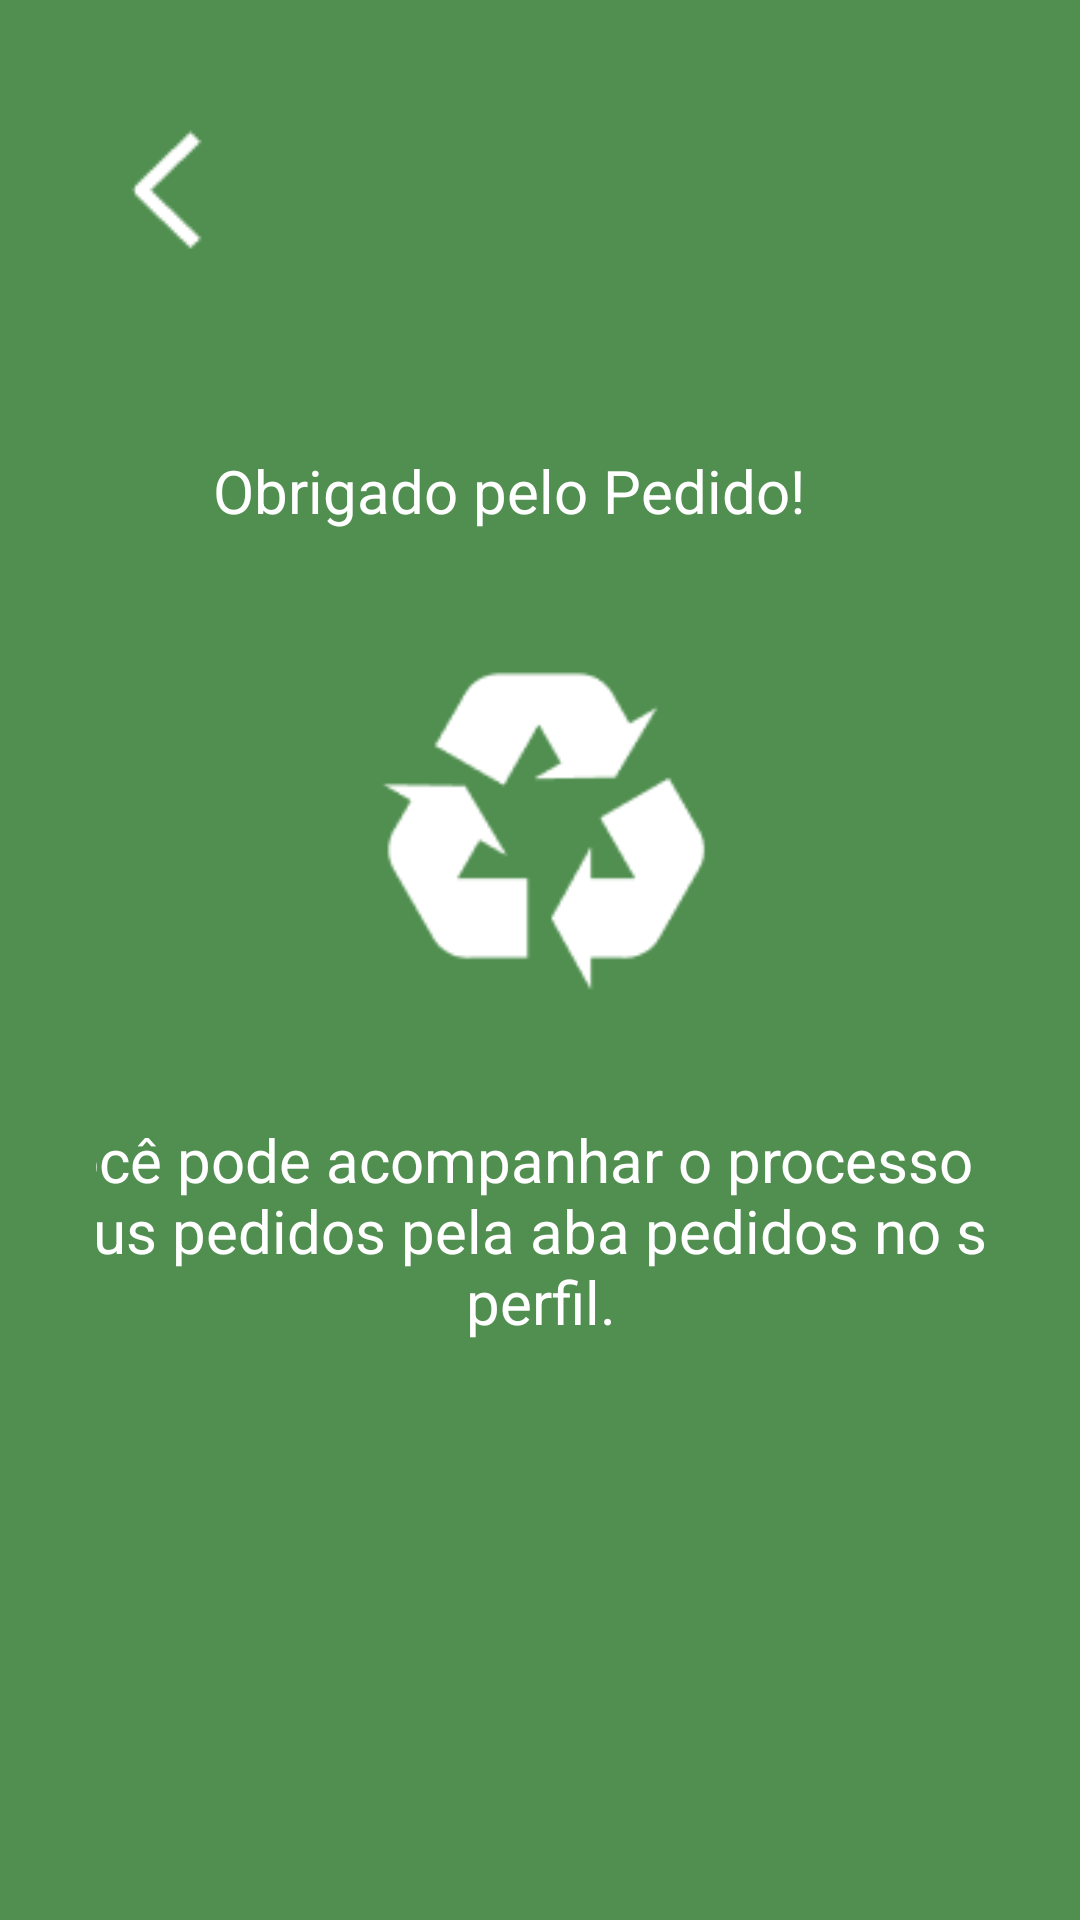

Named icons in this screenshot (1080*1920) and their bounding boxes, bbox=[x1, y1, x2, y2]:
reciclagem: bbox=[384, 672, 705, 989]
Voltar: bbox=[132, 131, 202, 249]
